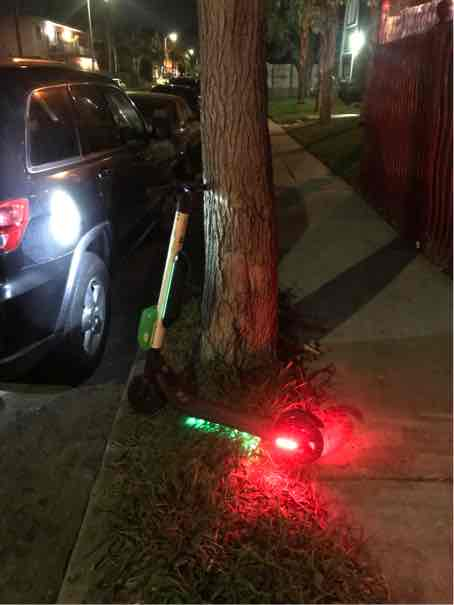scooter: (124, 150, 343, 469)
